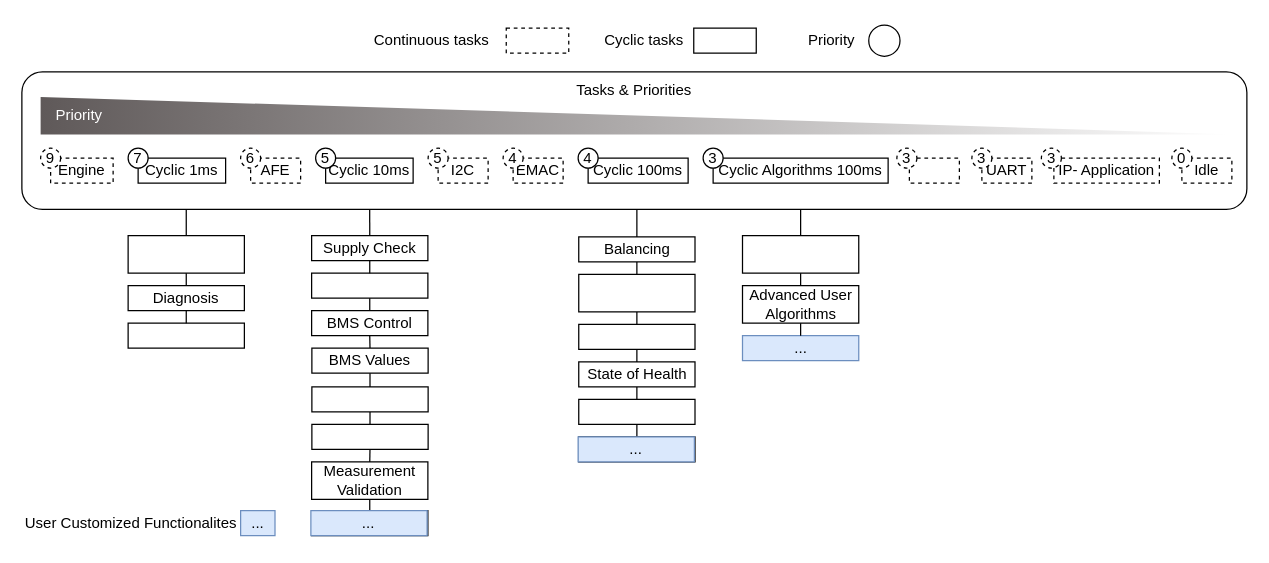
The diagram is 1269 pixels wide and 563 high, and some of its shapes have lost their labels. Here are the shapes that lost their labels. From the top down, the centre of each, then its label:
the point at 933,170: IP
the point at 185,253: V & T Measurement
the point at 800,253: Moving Averages
the point at 369,285: System Control
the point at 636,292: Insulation Monitoring
the point at 185,335: CAN RX
the point at 636,336: State of Charge
the point at 369,399: CAN TX
the point at 636,411: State of X
the point at 369,436: SOS
